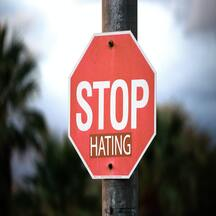Circle: (68, 31, 156, 179)
